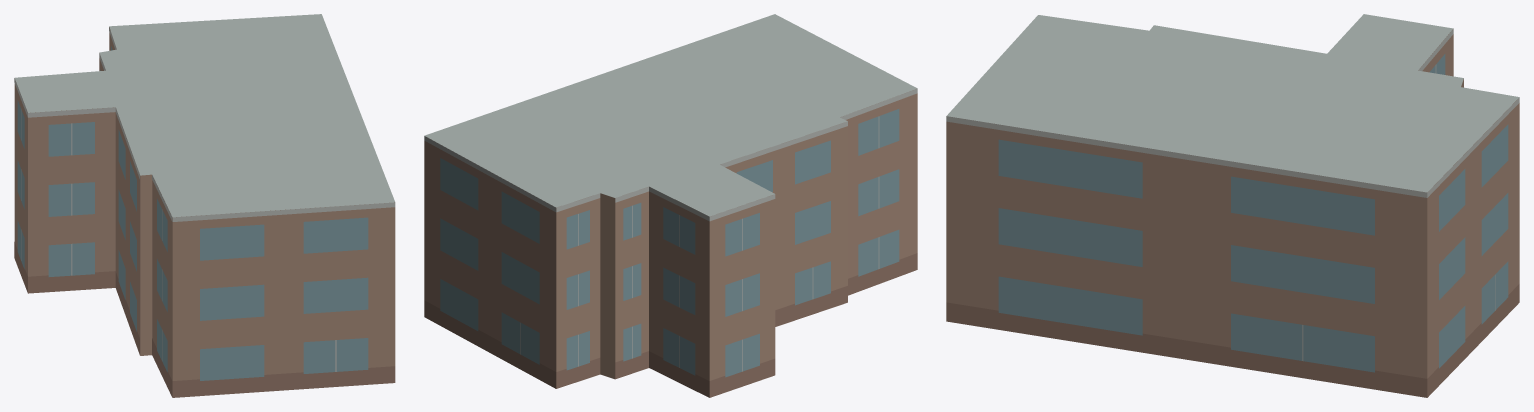
Rendered from survey-upis-33032295.glb.
3 renders of one model, left to right at view 1: azimuth 30°, elevation 25°; view 2: azimuth 150°, elevation 25°; view 3: azimuth 270°, elevation 25°, orthographic. The views are drawn at different scales.
Visible parts, largest first — view 1: survey-upis-33032295.tmp; view 2: survey-upis-33032295.tmp; view 3: survey-upis-33032295.tmp.
Boxes of the visible parts, x1,y1,x2,y2 form: survey-upis-33032295.tmp: [14, 14, 395, 397]; survey-upis-33032295.tmp: [424, 14, 917, 397]; survey-upis-33032295.tmp: [946, 14, 1519, 397].
Size of the model in its own units: 17.07 by 9.15 by 23.16.
